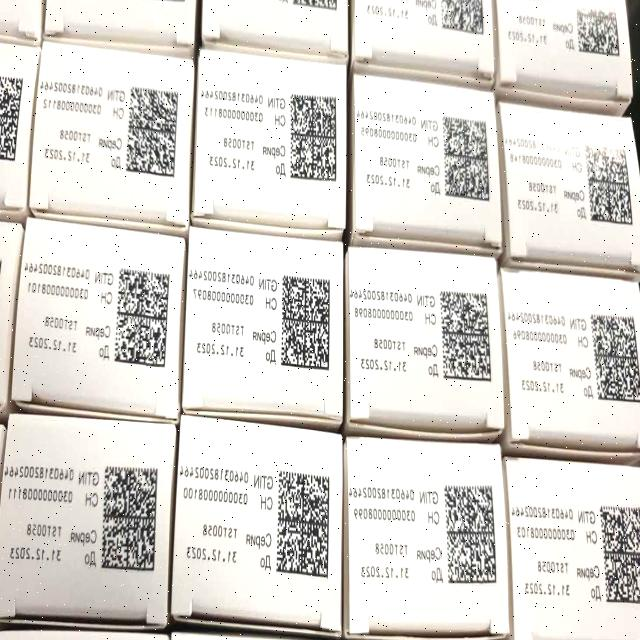datamatrix: (95, 454, 164, 586), (272, 463, 334, 586), (441, 478, 498, 596), (113, 262, 174, 372), (123, 82, 184, 184), (278, 273, 333, 375), (439, 285, 493, 386), (288, 88, 342, 186), (589, 309, 640, 404), (598, 499, 640, 612), (584, 138, 636, 228), (442, 116, 494, 206)
